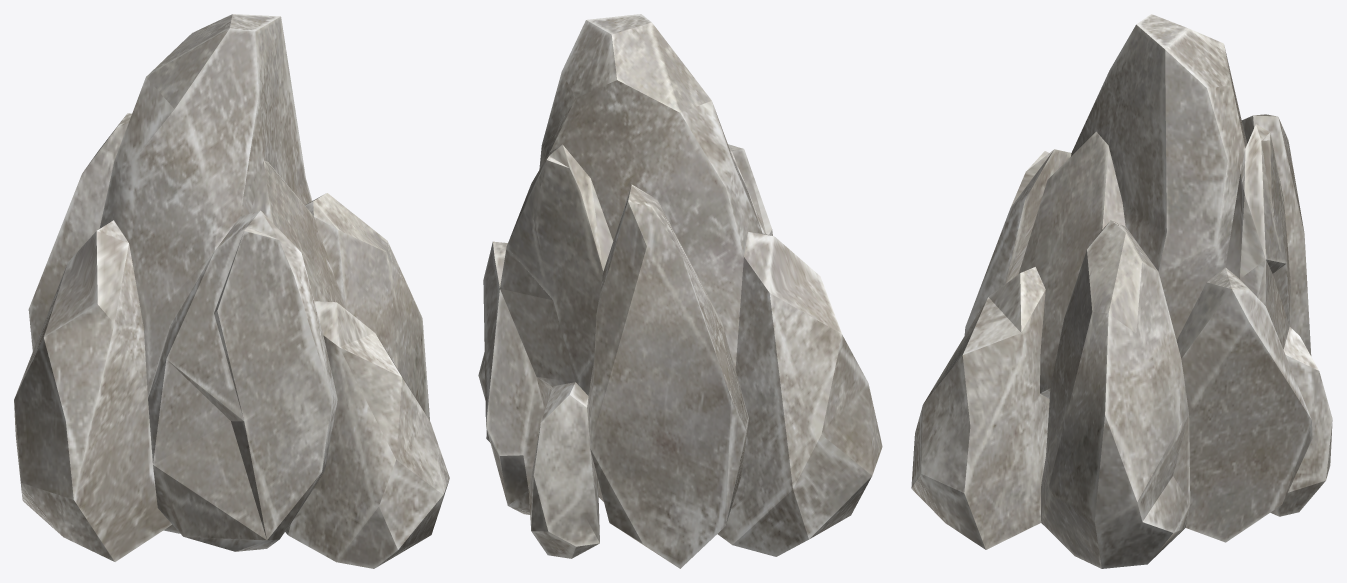
The model's file is round_rockgroup_8_dream.glb.
3 renders of one model, left to right at view 1: azimuth 30°, elevation 25°; view 2: azimuth 150°, elevation 25°; view 3: azimuth 270°, elevation 25°, orthographic.
Visible parts, largest first — view 1: round_rockgroup_8; view 2: round_rockgroup_8; view 3: round_rockgroup_8.
Part boxes in pixels (box(x1,y1,x2,y2)): round_rockgroup_8: box(14, 14, 449, 568); round_rockgroup_8: box(478, 14, 882, 568); round_rockgroup_8: box(911, 14, 1332, 568).
Size of the model in its own units: 5.13 by 6.06 by 4.75.
Materials: 1 (1 with a texture image).
